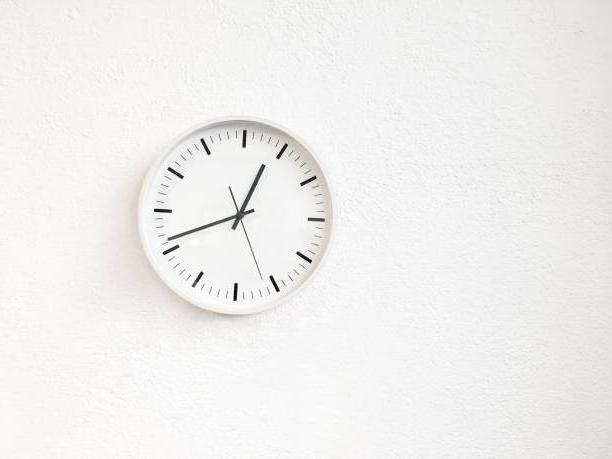clock: (131, 98, 340, 333)
